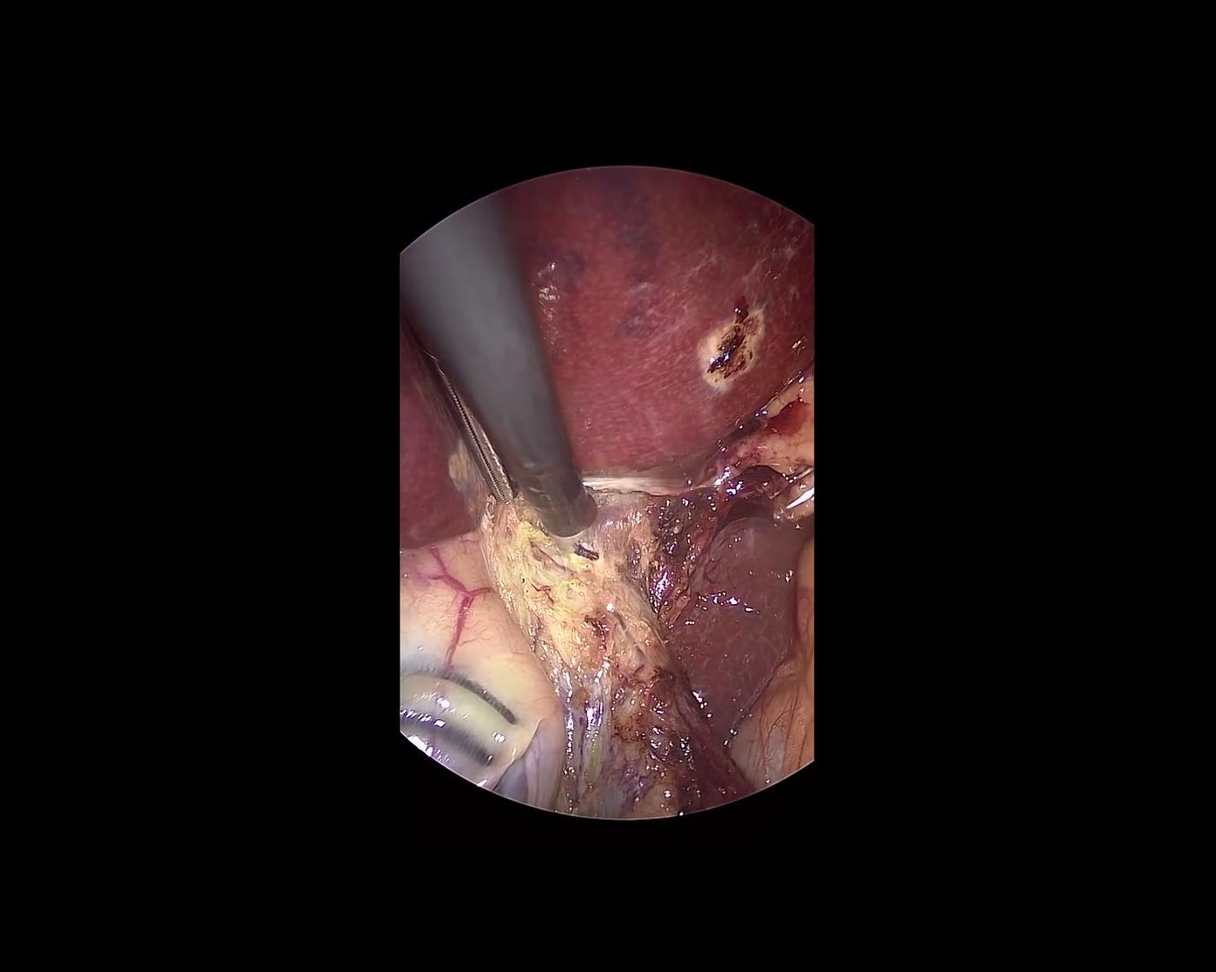Cautery: (396, 187, 606, 582)
Forceps: (379, 255, 518, 507)
Gallbladder: (400, 528, 752, 819)
Liver: (327, 120, 862, 548), (642, 502, 840, 752)
